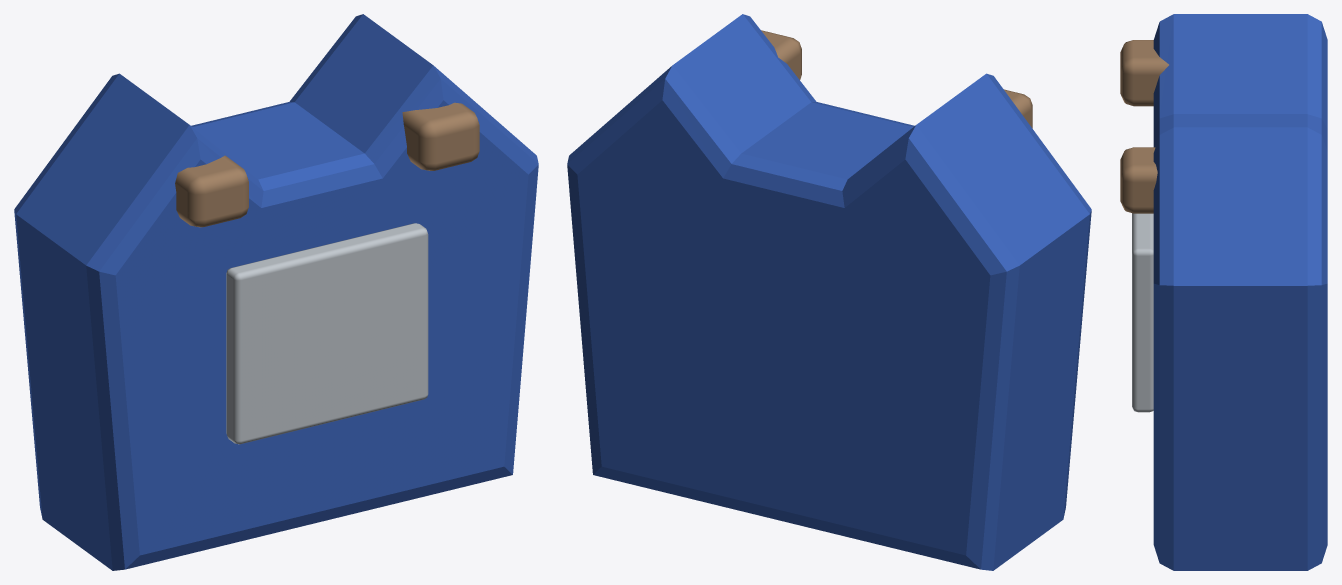
File: arena-shooter-map-kit-armour-vest-52075048__23115.glb
3 views of the same model, side by side, from view 1: azimuth 30°, elevation 25°; view 2: azimuth 150°, elevation 25°; view 3: azimuth 270°, elevation 25° (orthographic). The views are drawn at different scales.
Visible parts, largest first — view 1: armour-vest; view 2: armour-vest; view 3: armour-vest.
Part boxes in pixels (x1,y1,x2,y2): armour-vest: [14, 14, 538, 570]; armour-vest: [567, 14, 1091, 570]; armour-vest: [1120, 14, 1327, 570].
Bounding box in the file's own units: 0.7421 × 0.6725 × 0.31.
